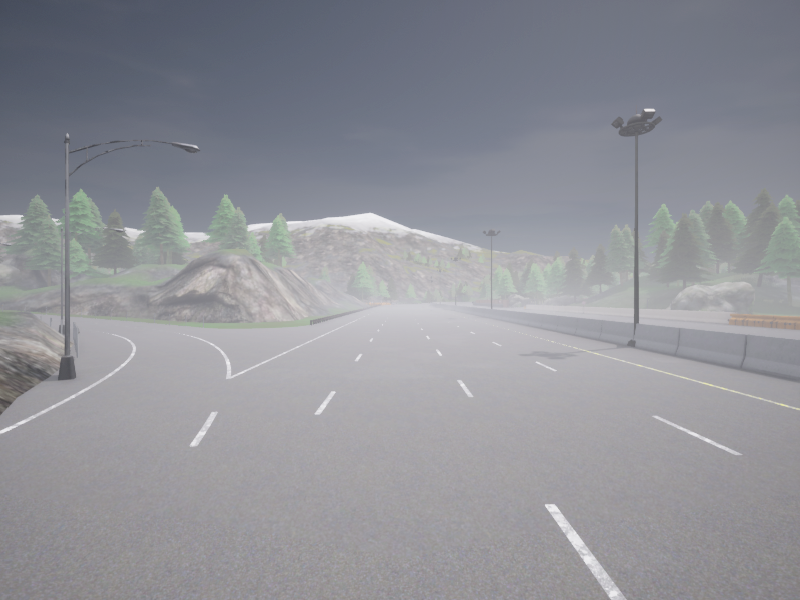vehicle: (472, 301, 474, 303)
